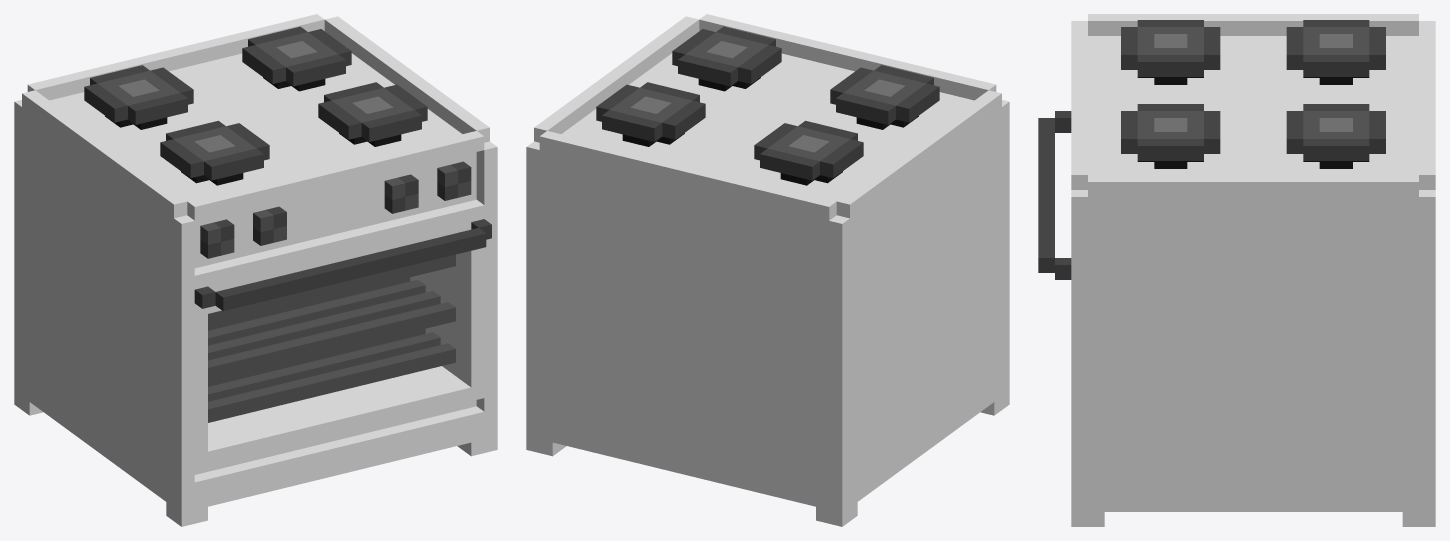
File: prop_oven_glassless.glb
The picture shows the model from 3 angles, left to right: view 1: azimuth 30°, elevation 25°; view 2: azimuth 150°, elevation 25°; view 3: azimuth 270°, elevation 25°; orthographic projection. The views are drawn at different scales.
Visible parts, largest first — view 1: prop_oven_glassless; view 2: prop_oven_glassless; view 3: prop_oven_glassless.
Part boxes in pixels (box(x1,y1,x2,y2)): prop_oven_glassless: box(14, 14, 497, 526); prop_oven_glassless: box(526, 14, 1009, 526); prop_oven_glassless: box(1038, 14, 1435, 526).
Bounding box in the file's own units: 2.4 × 2.4 × 2.4.
1 material, 1 textured.
